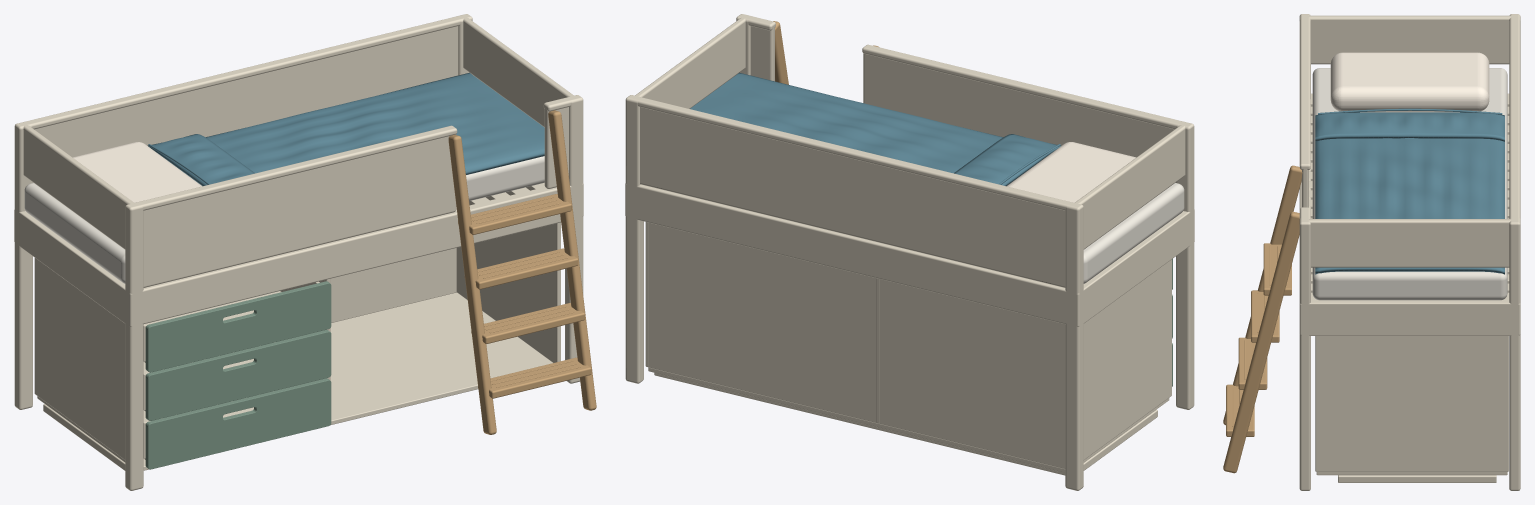
Rendered from junior-cabin-bed-191cm.glb.
3 renders of one model, left to right at view 1: azimuth 30°, elevation 25°; view 2: azimuth 150°, elevation 25°; view 3: azimuth 270°, elevation 25°, orthographic. The views are drawn at different scales.
Parts seen in each view (by area): view 1: 01 • Frame, 03 • Drawer fronts, 06 • Quilt, 02 • Ladder, 04 • Mattress, 05 • Pillow; view 2: 01 • Frame, 06 • Quilt, 05 • Pillow, 04 • Mattress; view 3: 01 • Frame, 06 • Quilt, 05 • Pillow, 04 • Mattress, 02 • Ladder.
Part boxes in pixels (x1=…): 01 • Frame: x1=14, y1=14, x2=583, y2=490; 03 • Drawer fronts: x1=145, y1=281, x2=331, y2=469; 06 • Quilt: x1=147, y1=72, x2=544, y2=186; 02 • Ladder: x1=448, y1=110, x2=596, y2=434; 04 • Mattress: x1=24, y1=156, x2=544, y2=283; 05 • Pillow: x1=72, y1=142, x2=201, y2=202; 01 • Frame: x1=625, y1=14, x2=1194, y2=490; 06 • Quilt: x1=690, y1=72, x2=1061, y2=186; 05 • Pillow: x1=1007, y1=142, x2=1136, y2=202; 04 • Mattress: x1=1083, y1=183, x2=1184, y2=283; 01 • Frame: x1=1299, y1=14, x2=1520, y2=490; 06 • Quilt: x1=1315, y1=108, x2=1504, y2=274; 05 • Pillow: x1=1330, y1=52, x2=1489, y2=111; 04 • Mattress: x1=1312, y1=68, x2=1507, y2=300; 02 • Ladder: x1=1223, y1=165, x2=1302, y2=473.
Size of the model in its own units: 1.91 by 1.14 by 1.14.
